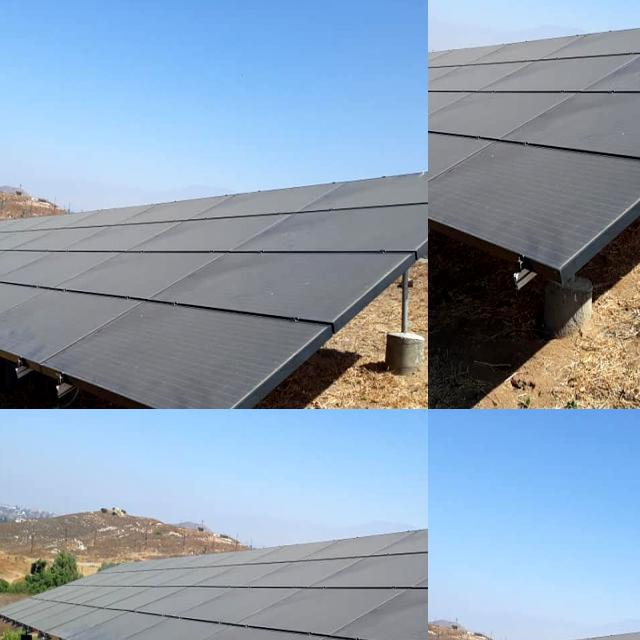dust: (454, 158, 562, 264), (428, 160, 478, 275), (466, 96, 550, 140), (428, 66, 537, 95), (0, 118, 44, 180), (563, 107, 640, 133), (428, 162, 446, 272), (556, 65, 640, 88), (428, 92, 461, 146), (0, 180, 23, 256), (428, 68, 449, 139), (0, 120, 24, 169), (108, 72, 168, 90), (0, 138, 15, 200), (64, 106, 104, 126), (428, 105, 447, 145)
shadow: (169, 409, 309, 580)
